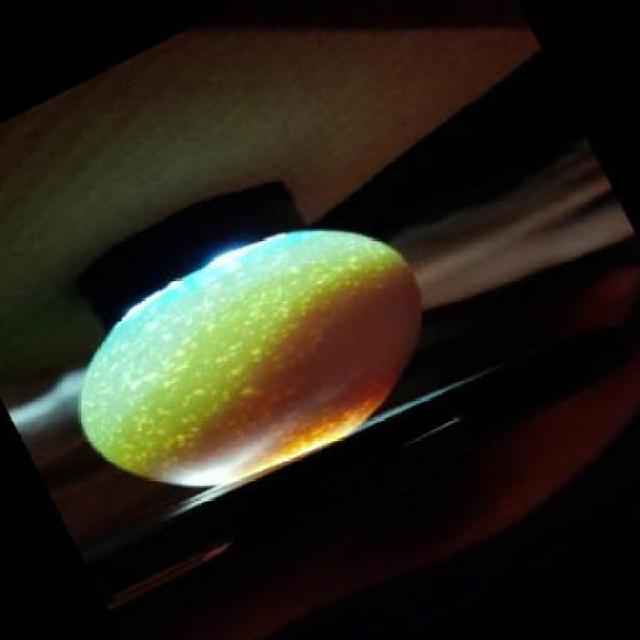Eggs: (79, 230, 422, 489)
